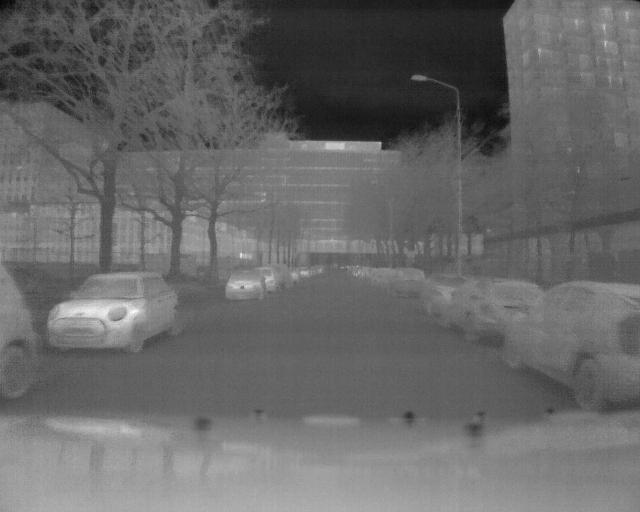car: (505, 279, 640, 405), (45, 267, 189, 360), (448, 277, 548, 354), (419, 274, 474, 320), (225, 268, 265, 305)
